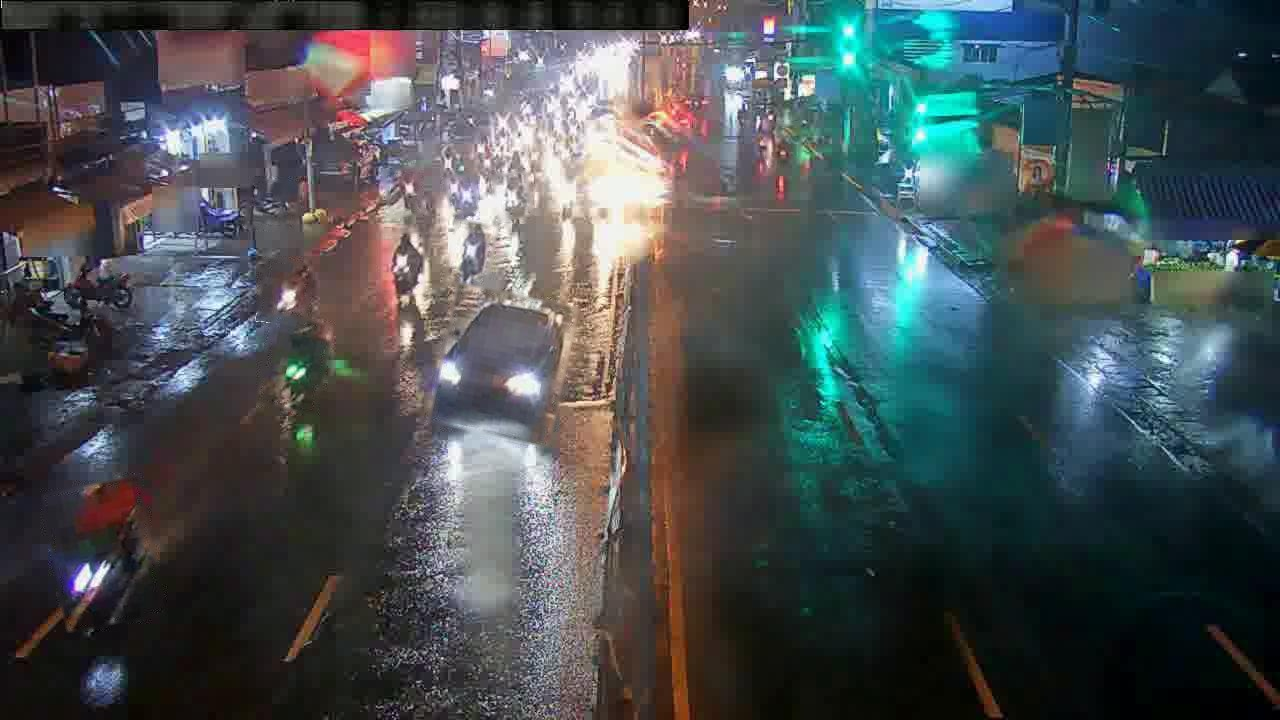Car: (434, 303, 562, 438)
Motorcyclist: (61, 477, 150, 631), (268, 322, 331, 409), (63, 258, 126, 308), (259, 263, 314, 320), (388, 233, 422, 296), (456, 221, 488, 286), (249, 184, 296, 224), (385, 170, 421, 215), (500, 175, 528, 219), (448, 176, 478, 216), (766, 125, 794, 167)
